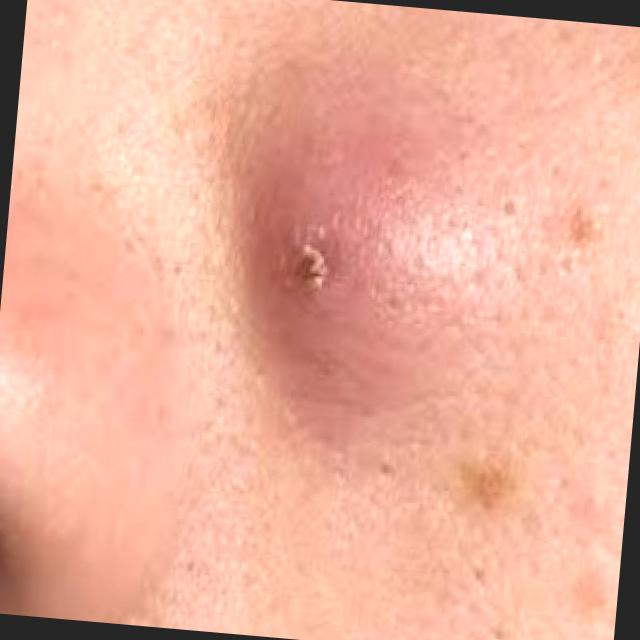nodule: (226, 118, 438, 397)
